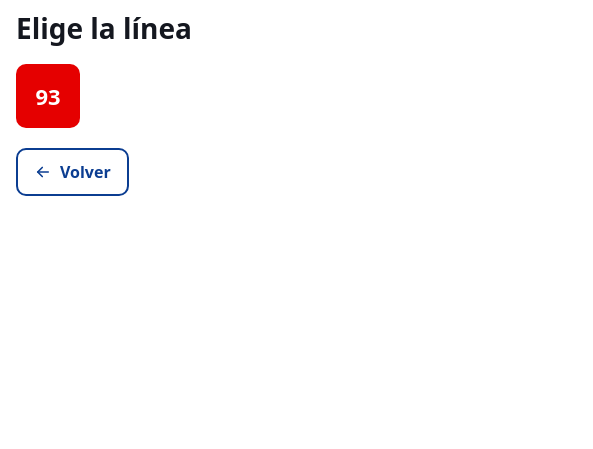
ServicePicker › [driver_ui.AC-02] a 5xx or a network error choosing the departure says "No se han podido cargar los datos" with "Reintentar"
Click the button named "Línea 93" at (48,96), box [16, 64, 80, 128]
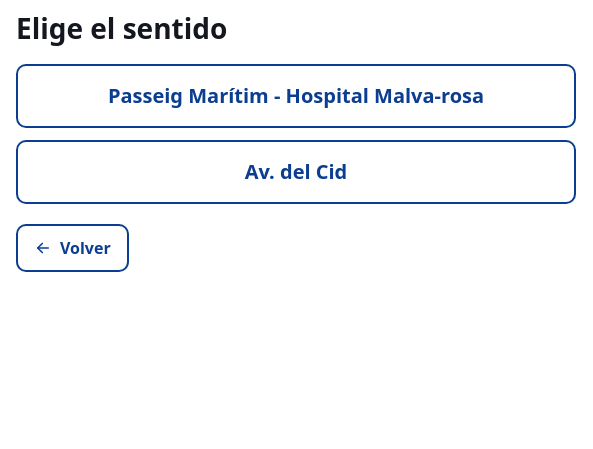
Click the button "Passeig Marítim - Hospital Malva-rosa" at (296,96), box [16, 64, 576, 128]
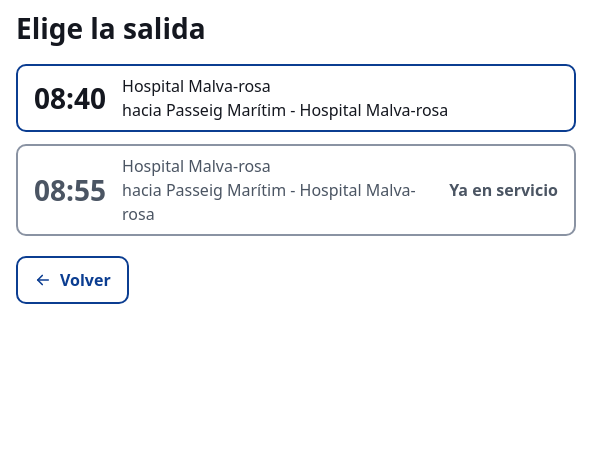
Click the button "08:40" at (296,98), box [16, 64, 576, 132]
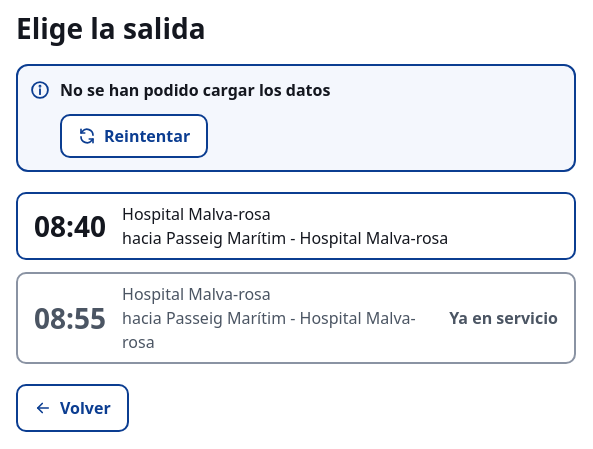
expect the text "No se han podido cargar los datos" is shown: met, box [60, 79, 330, 101]
Click the button "Reintentar" at (134,136), box [60, 114, 208, 158]
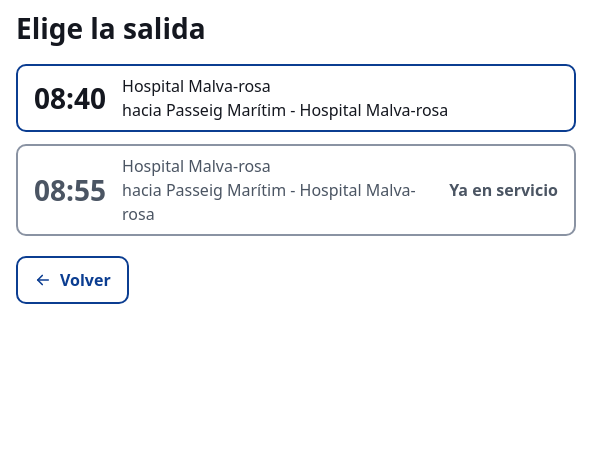
expect the text "No se han podido cargar los datos" is gone: met
Click the button "08:40" at (296,98), box [16, 64, 576, 132]
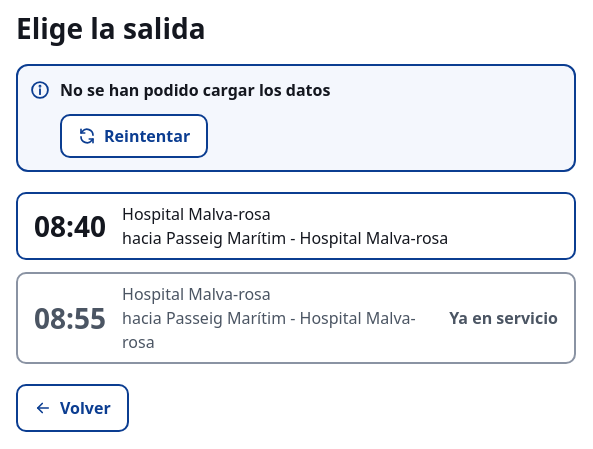
expect the text "No se han podido cargar los datos" is shown: met, box [60, 79, 330, 101]
expect the button "Reintentar" is shown: met, box [60, 114, 208, 158]
